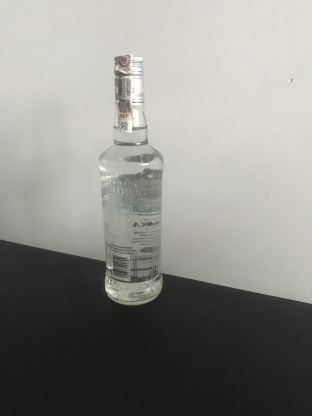nakretka: (111, 53, 146, 105)
